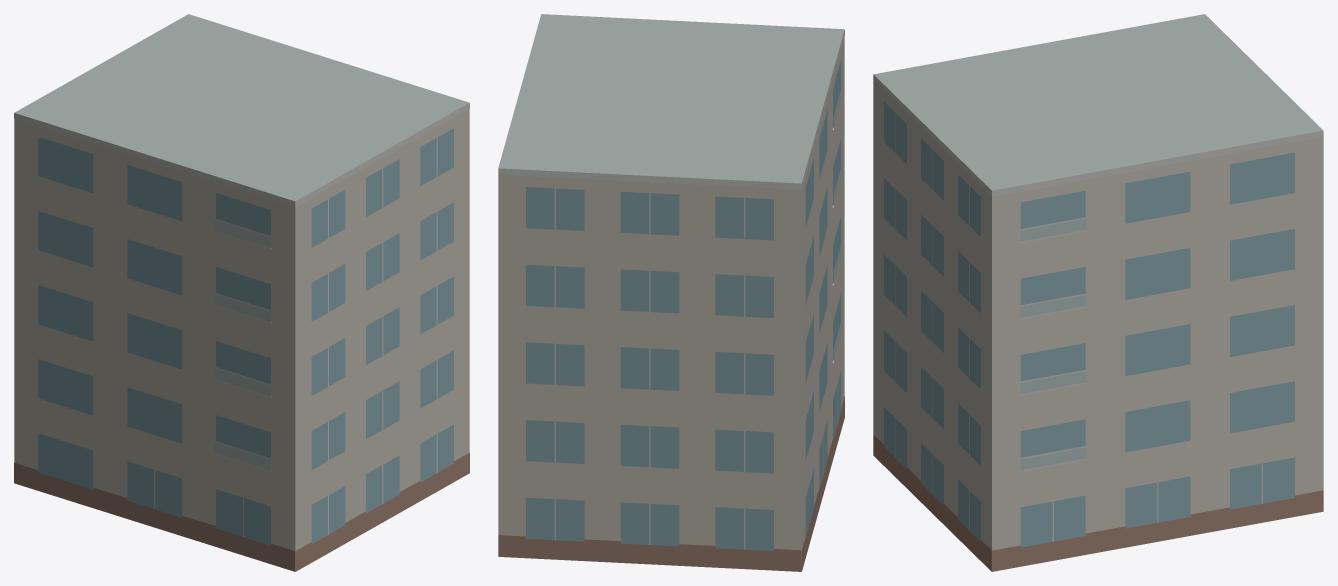
The model's file is residential-cfb9f17d-82d3-403f-96bf-bd3f51745d5a.glb.
3 renders of one model, left to right at view 1: azimuth 30°, elevation 25°; view 2: azimuth 150°, elevation 25°; view 3: azimuth 270°, elevation 25°, orthographic. The views are drawn at different scales.
Visible parts, largest first — view 1: residential-cfb9f17d-82d3-403f-96bf-bd3f51745d5a.tmp; view 2: residential-cfb9f17d-82d3-403f-96bf-bd3f51745d5a.tmp; view 3: residential-cfb9f17d-82d3-403f-96bf-bd3f51745d5a.tmp.
Part boxes in pixels (box(x1,y1,x2,y2)): residential-cfb9f17d-82d3-403f-96bf-bd3f51745d5a.tmp: box(14, 14, 469, 571); residential-cfb9f17d-82d3-403f-96bf-bd3f51745d5a.tmp: box(498, 14, 844, 571); residential-cfb9f17d-82d3-403f-96bf-bd3f51745d5a.tmp: box(873, 14, 1323, 571).
Bounding box in the file's own units: 15.18 × 15.25 × 16.33.
